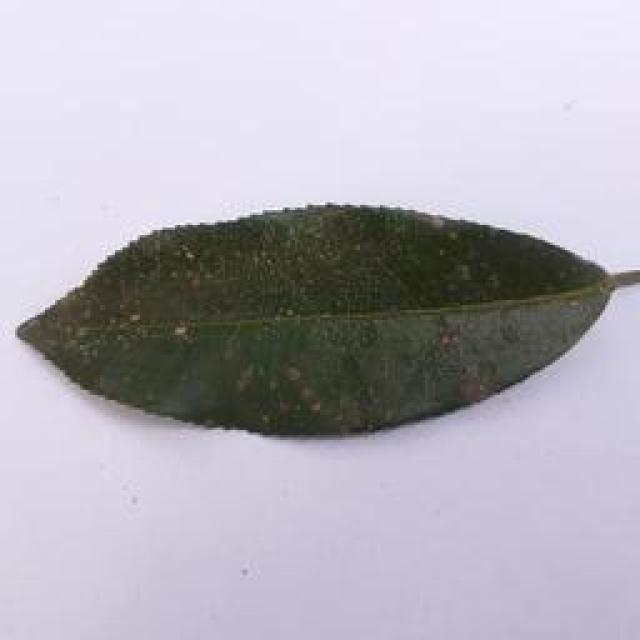Algal Leaf Spot: (14, 205, 640, 444)
